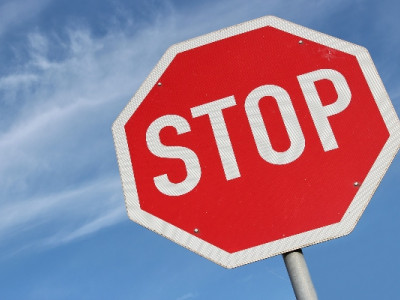stop: (122, 24, 392, 256)
